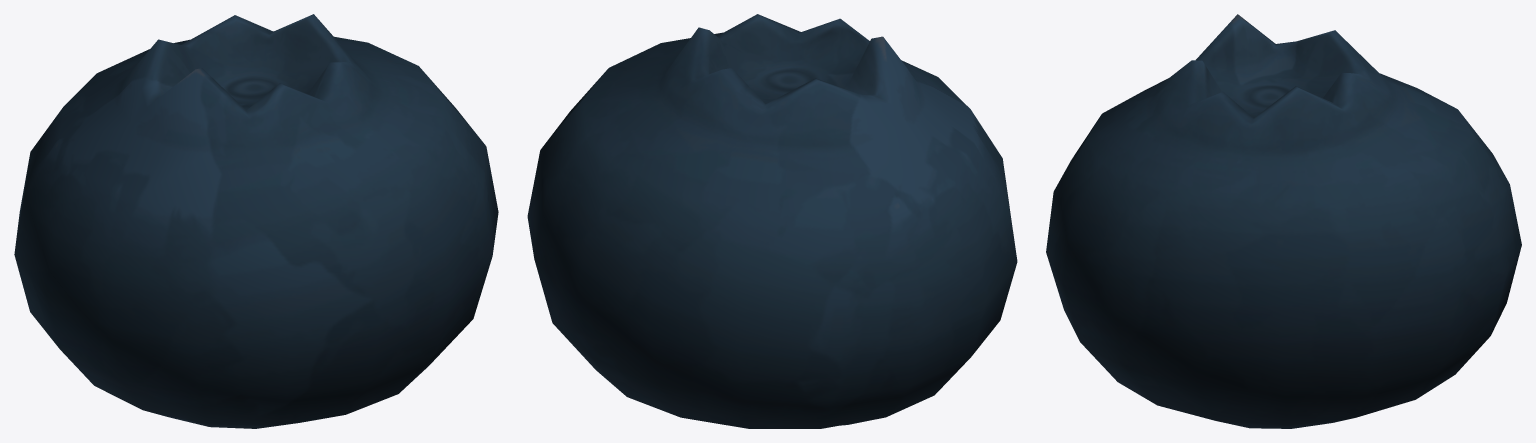
File: SM_BlueberryA.fbx
The picture shows the model from 3 angles, left to right: view 1: azimuth 30°, elevation 25°; view 2: azimuth 150°, elevation 25°; view 3: azimuth 270°, elevation 25°; orthographic projection. The views are drawn at different scales.
Visible parts, largest first — view 1: SM_BlueberryA; view 2: SM_BlueberryA; view 3: SM_BlueberryA.
Part boxes in pixels (box(x1,y1,x2,y2)): SM_BlueberryA: box(14, 14, 498, 428); SM_BlueberryA: box(527, 14, 1017, 428); SM_BlueberryA: box(1046, 14, 1521, 428).
Bounding box in the file's own units: 4.94 × 3.97 × 5.03.
